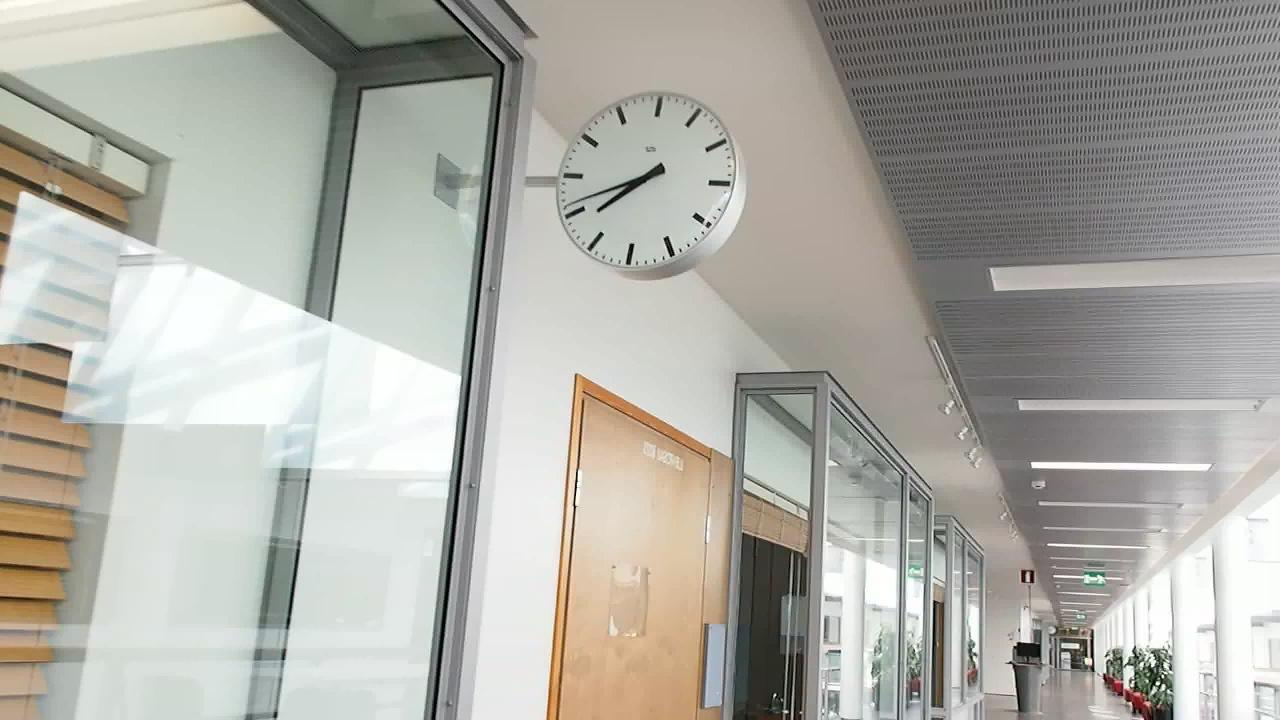clock: (547, 79, 751, 279)
